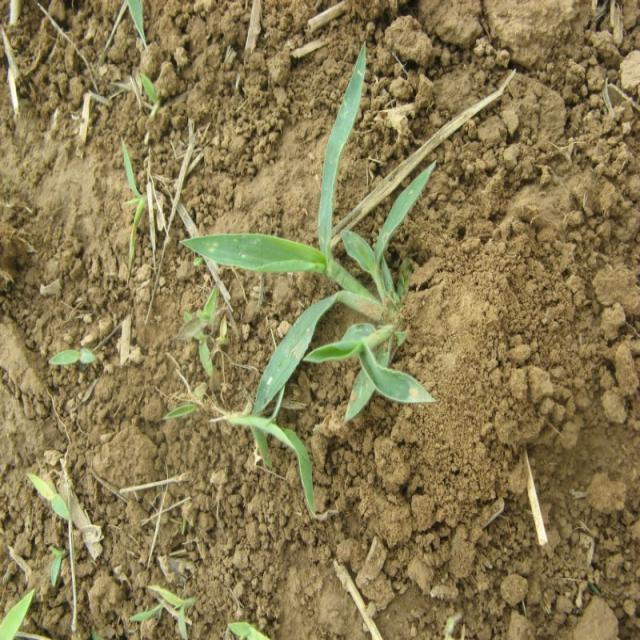bg: (179, 43, 433, 426)
